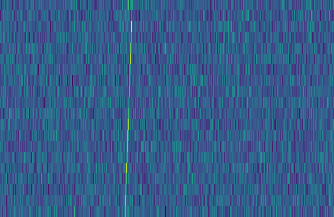signal: (118, 0, 135, 217)
